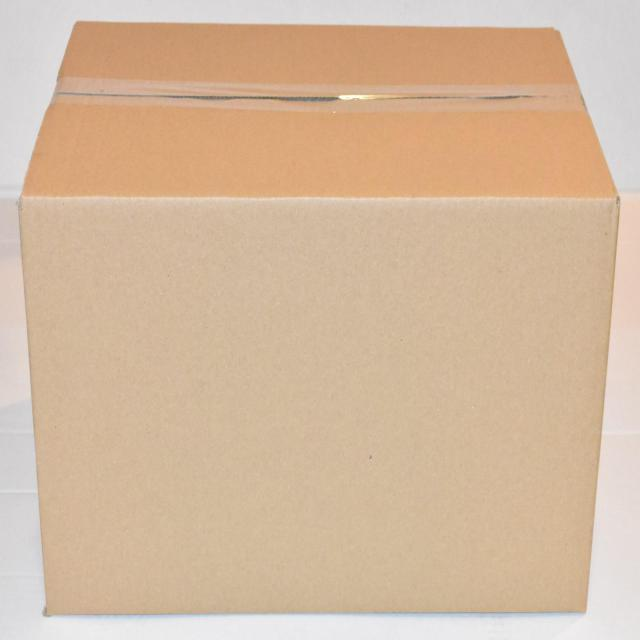Pathole: (18, 21, 621, 615)
